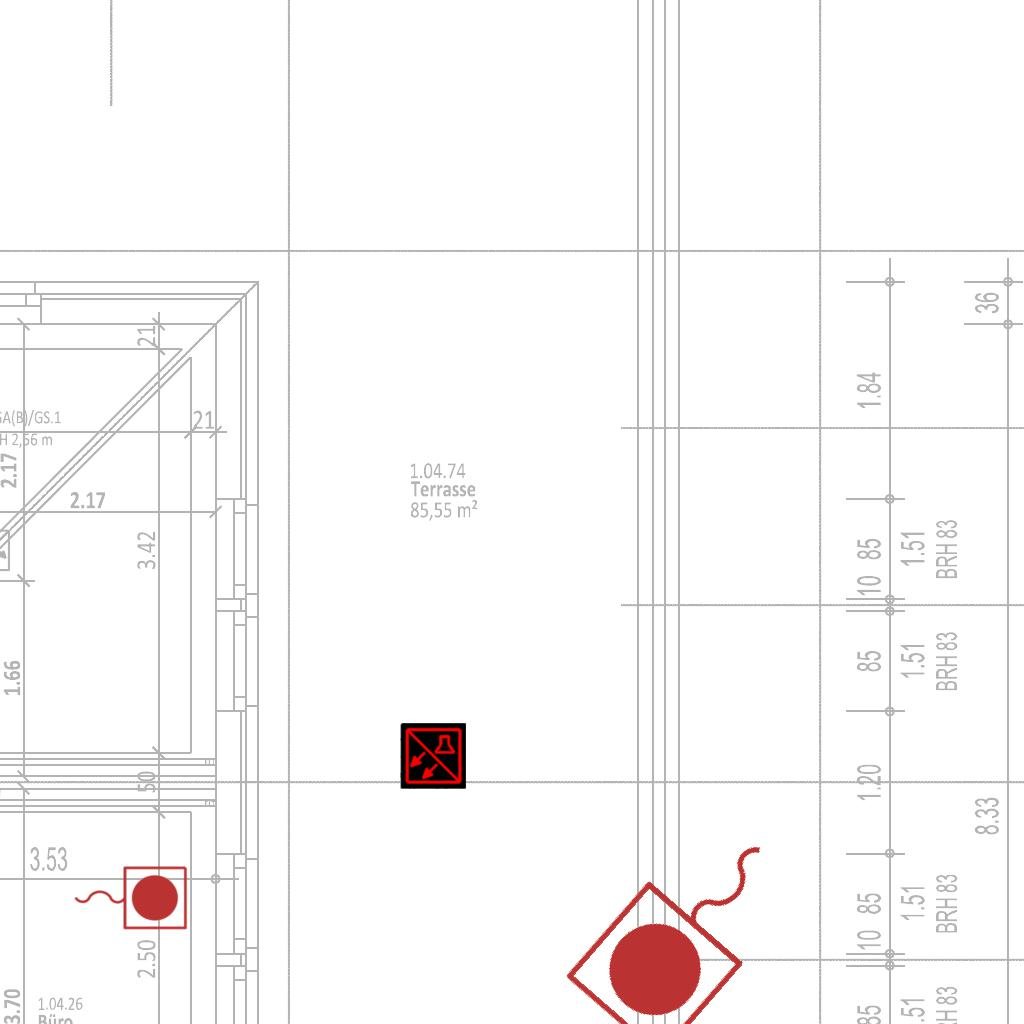OKW_Multisensormelder_(Kombination_optischer_Rauch-Kahlenmonoxid_Waerme-Melder): (400, 723, 466, 789)
Zugtaster: (554, 793, 824, 1024), (69, 861, 191, 933)
